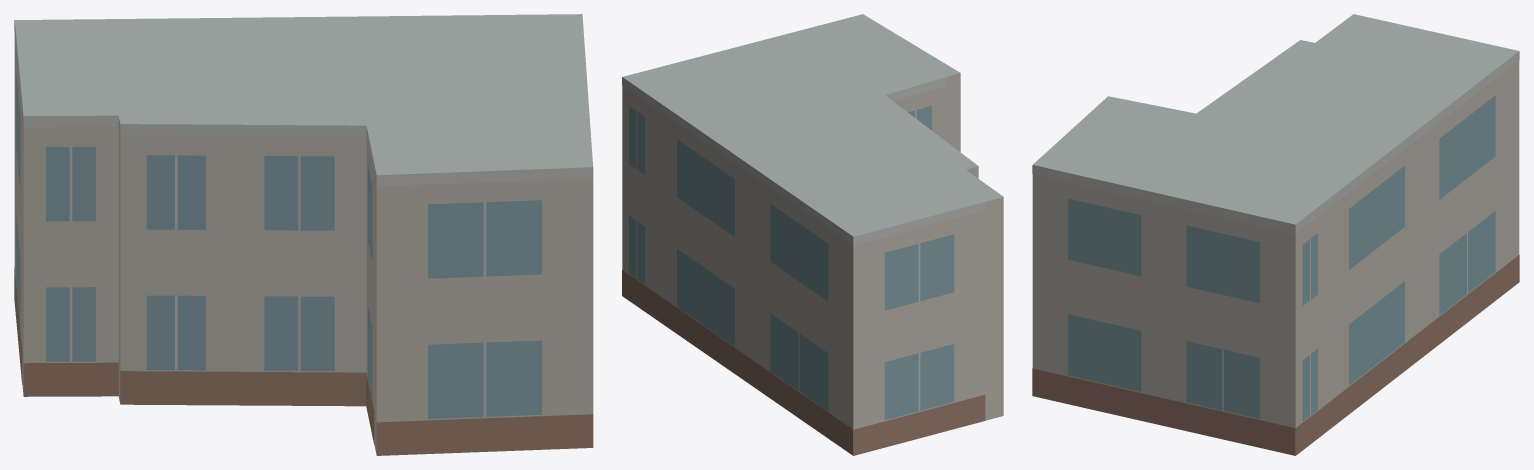
The model's file is survey-upis-32650446.glb.
3 renders of one model, left to right at view 1: azimuth 30°, elevation 25°; view 2: azimuth 150°, elevation 25°; view 3: azimuth 270°, elevation 25°, orthographic. The views are drawn at different scales.
Parts seen in each view (by area): view 1: survey-upis-32650446.tmp; view 2: survey-upis-32650446.tmp; view 3: survey-upis-32650446.tmp.
Boxes of the visible parts, box(x1,y1,x2,y2) form: survey-upis-32650446.tmp: box(14, 14, 593, 455); survey-upis-32650446.tmp: box(622, 14, 1003, 455); survey-upis-32650446.tmp: box(1032, 14, 1519, 455).
Size of the model in its own units: 11.93 by 6.1 by 11.65.
